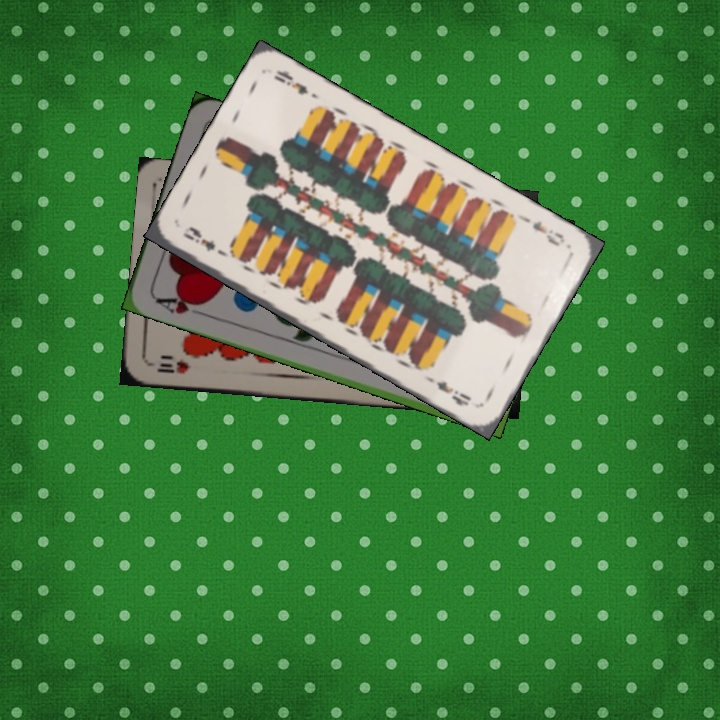E9: (179, 223, 233, 260), (528, 216, 568, 249)
H10: (146, 355, 192, 376)
HA: (151, 290, 208, 319)
